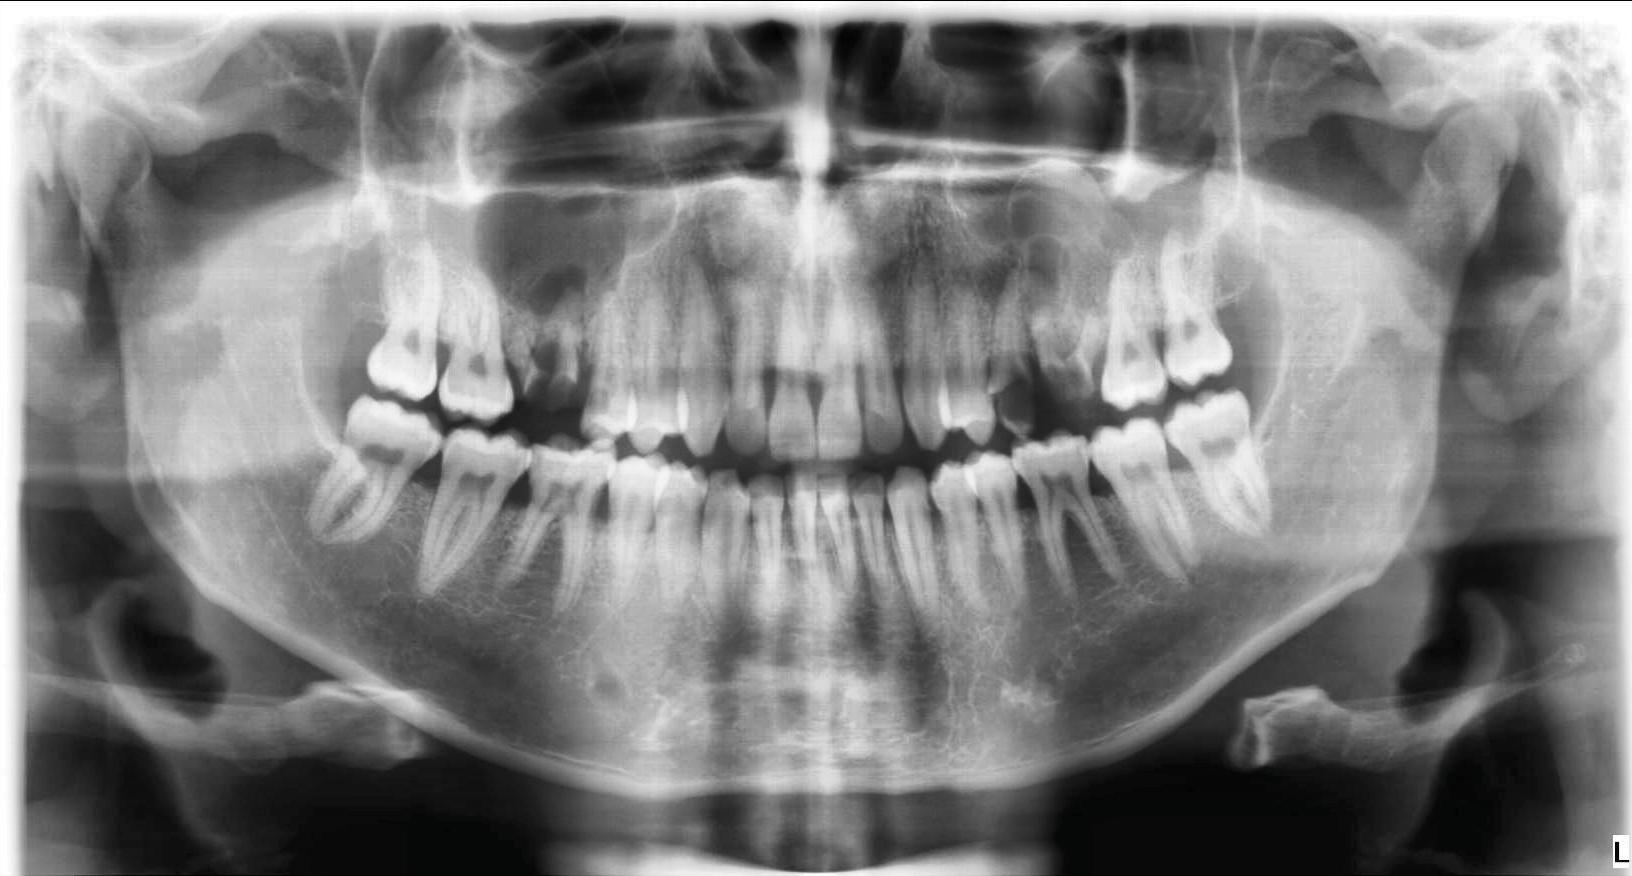radikuler: (474, 153, 680, 327)
